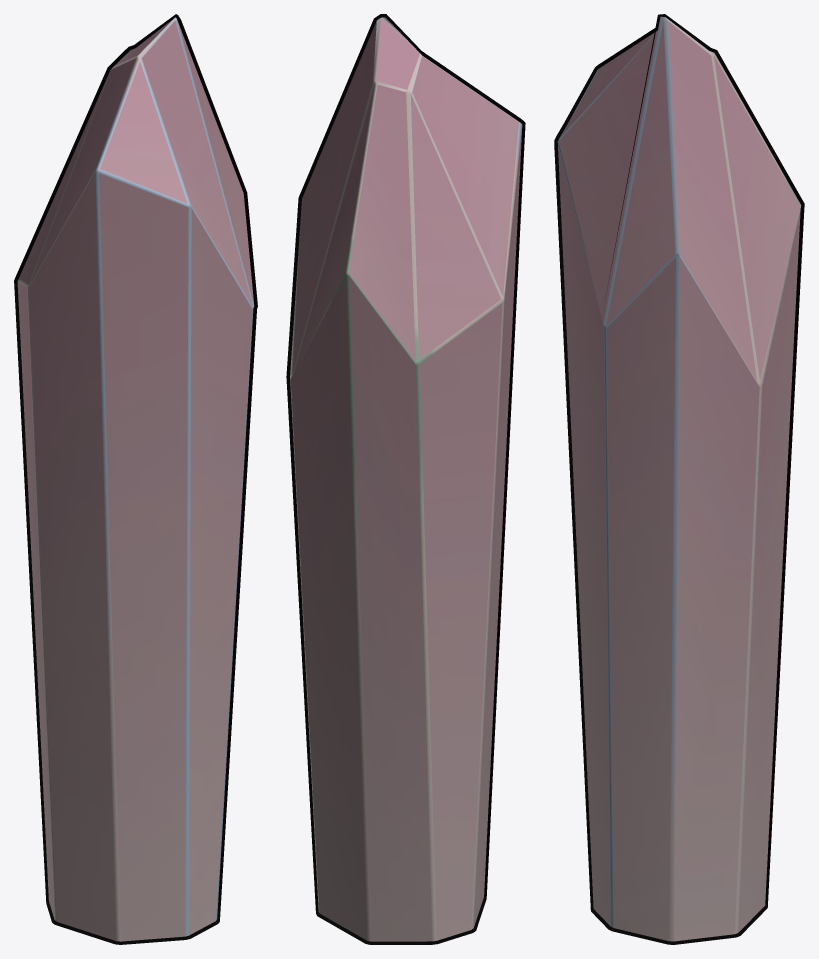
Rendered from crystal-small-04.glb.
3 renders of one model, left to right at view 1: azimuth 30°, elevation 25°; view 2: azimuth 150°, elevation 25°; view 3: azimuth 270°, elevation 25°, orthographic. The views are drawn at different scales.
Parts seen in each view (by area): view 1: Crystal_Small_04; view 2: Crystal_Small_04; view 3: Crystal_Small_04.
Boxes of the visible parts, left/top/right/bottom form: Crystal_Small_04: left=14, top=14, right=257, bottom=944; Crystal_Small_04: left=286, top=14, right=525, bottom=944; Crystal_Small_04: left=554, top=14, right=804, bottom=944.
Bounding box in the file's own units: 0.6871 × 2.73 × 0.6807.
2 materials, 1 textured.
